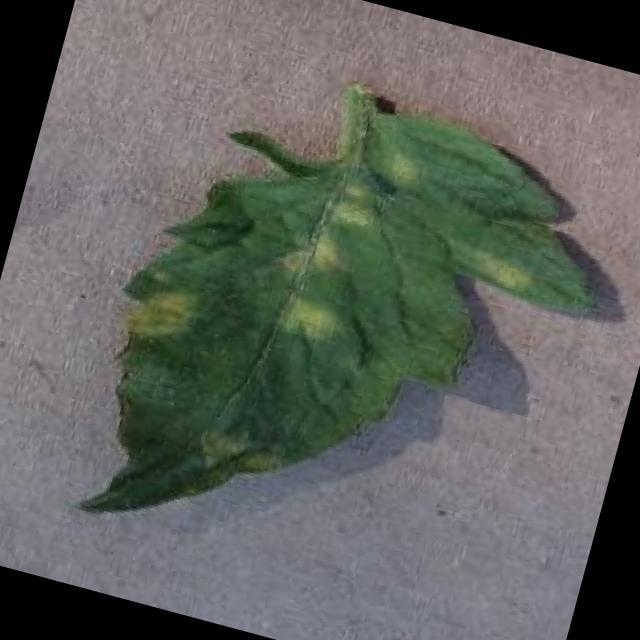Tomato mold leaf: (63, 58, 627, 630)
